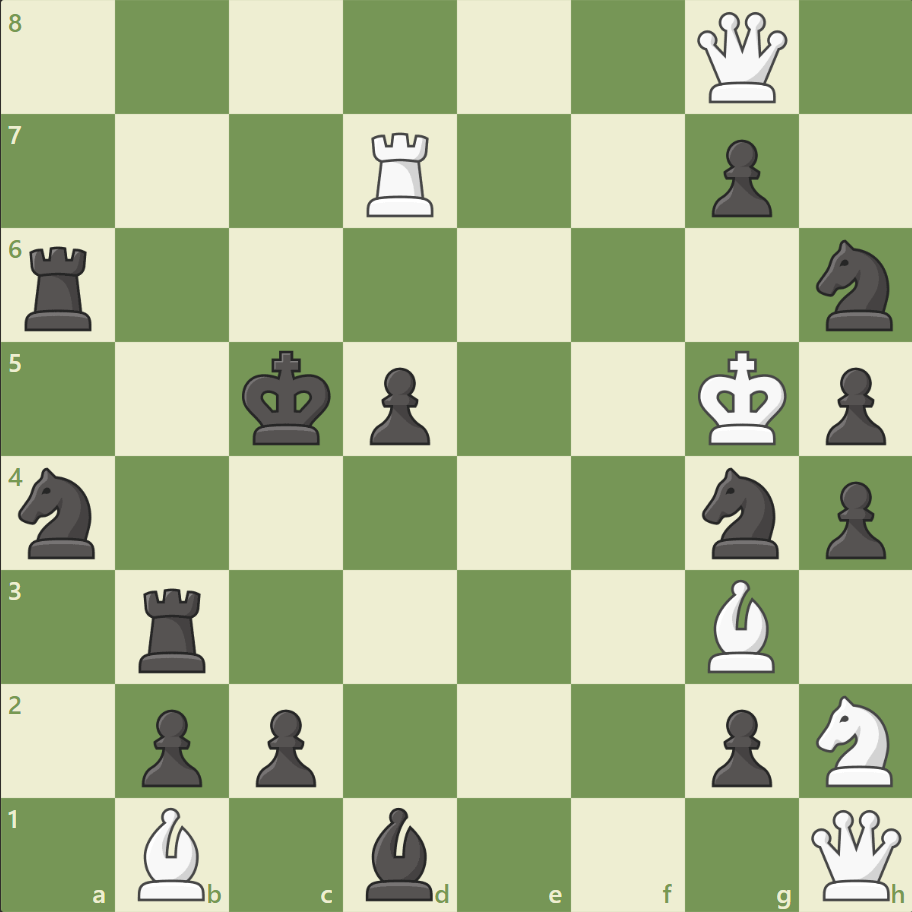B: (131, 801, 215, 904), (698, 574, 782, 676)
K: (692, 344, 792, 452)
N: (806, 688, 903, 791)
Q: (691, 9, 790, 108), (805, 804, 904, 903)
R: (360, 125, 442, 222)
b: (358, 801, 442, 904)
k: (238, 344, 338, 452)
n: (806, 234, 903, 337), (11, 461, 108, 564), (692, 461, 789, 564)
p: (701, 132, 776, 223), (133, 700, 208, 791), (247, 700, 322, 791), (701, 700, 776, 791), (361, 359, 435, 450), (815, 359, 889, 450), (815, 473, 889, 564)
r: (19, 239, 102, 336), (133, 579, 215, 676)
